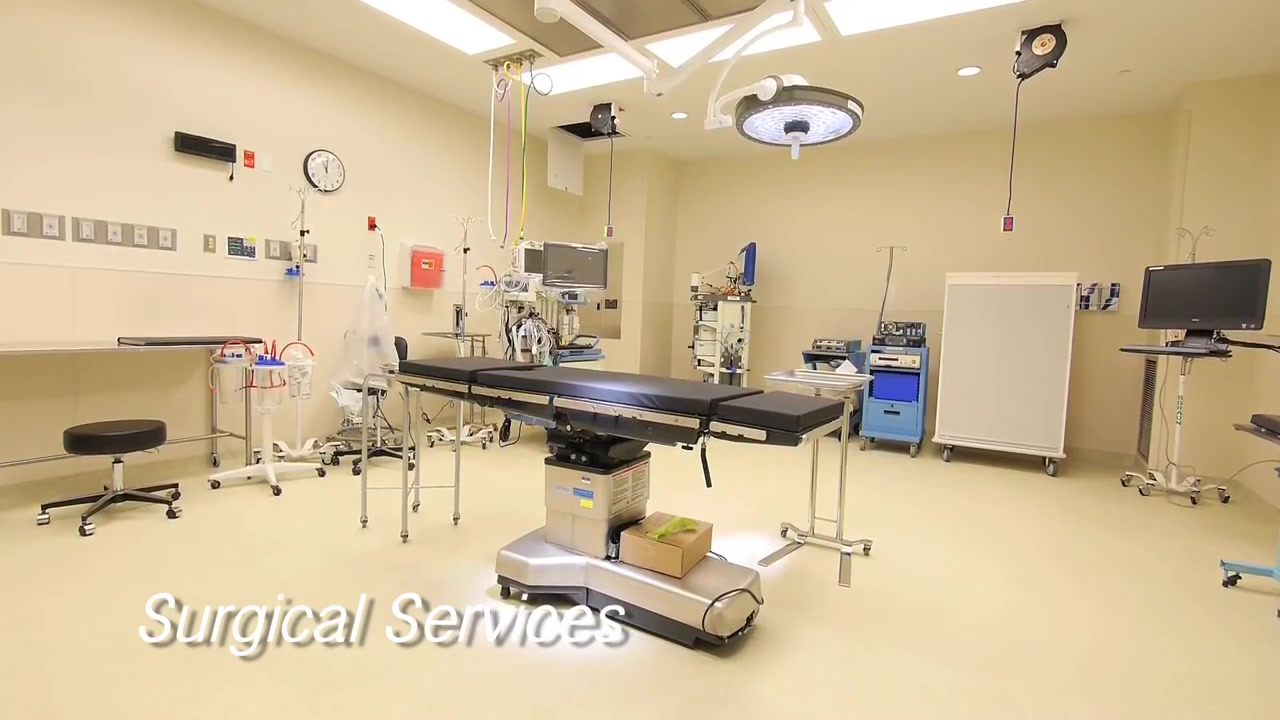bedside_monitor: (543, 239, 609, 290), (523, 242, 546, 278)
breathing_tube: (512, 322, 553, 362)
chair: (38, 419, 183, 538)
computer: (1137, 255, 1271, 333)
electrosurgical_unit: (812, 337, 864, 353)
iv_pole: (285, 181, 323, 341), (452, 212, 482, 357), (876, 244, 908, 345), (1171, 218, 1218, 261)
medical_waste_container: (395, 242, 445, 291)
operating_bed: (389, 333, 845, 651)
surgical_light: (734, 82, 864, 152)
utility_cart: (758, 367, 877, 588), (359, 361, 470, 539)
